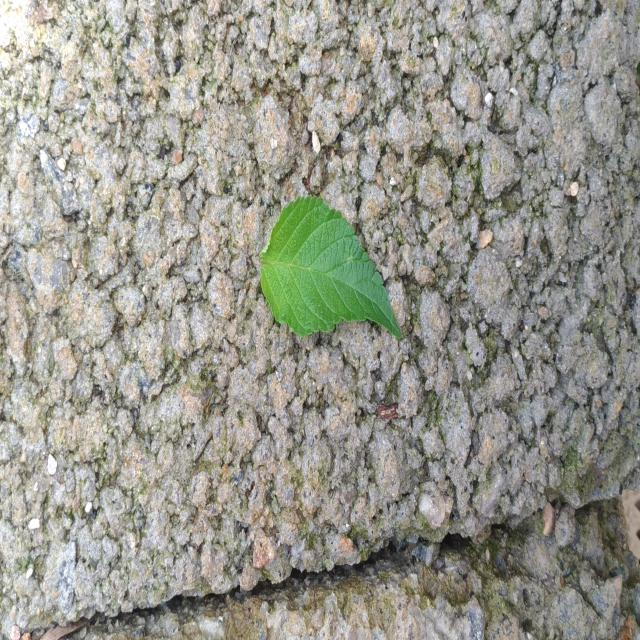Lantana: (260, 198, 401, 338)
